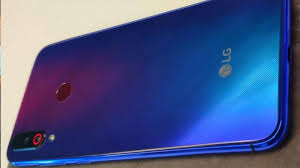lg: (6, 1, 300, 167)
